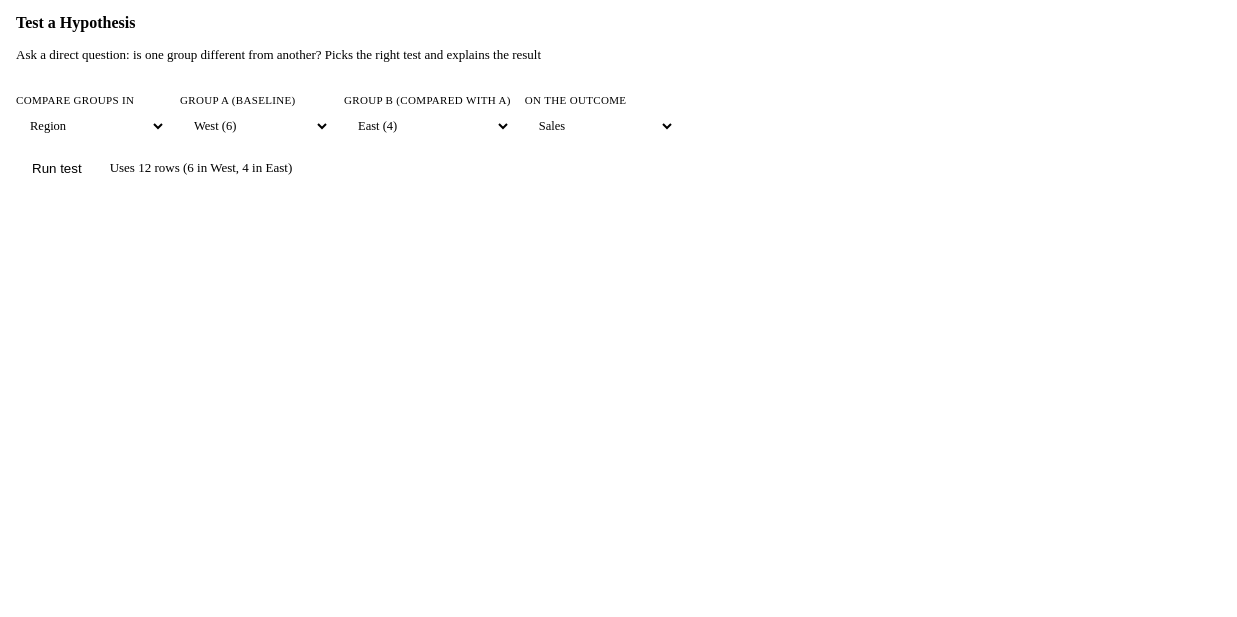
HypothesisTestPanel › a non-significant result is labelled "No clear difference" and an interval across zero says so
The image size is (1237, 617).
Click the button "Run test".
click(57, 168)  # box [16,152,98,184]
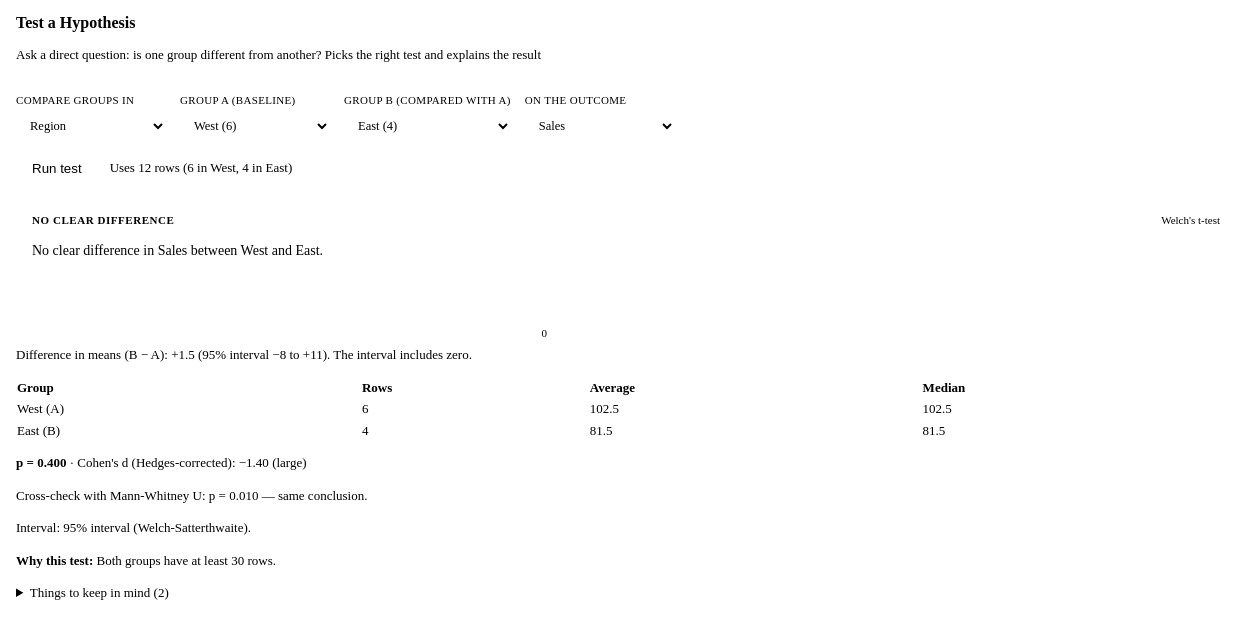
expect the text "No clear difference" is shown: met, box [32,214,174,226]
expect the element that starts with "Difference in means (B − A)" shows "The interval includes zero.": met, box [333,347,472,362]
